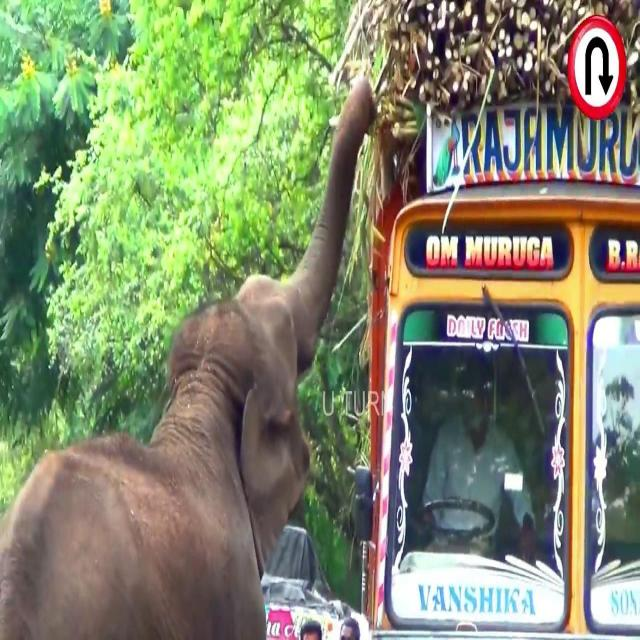Elephant: (0, 75, 378, 631)
